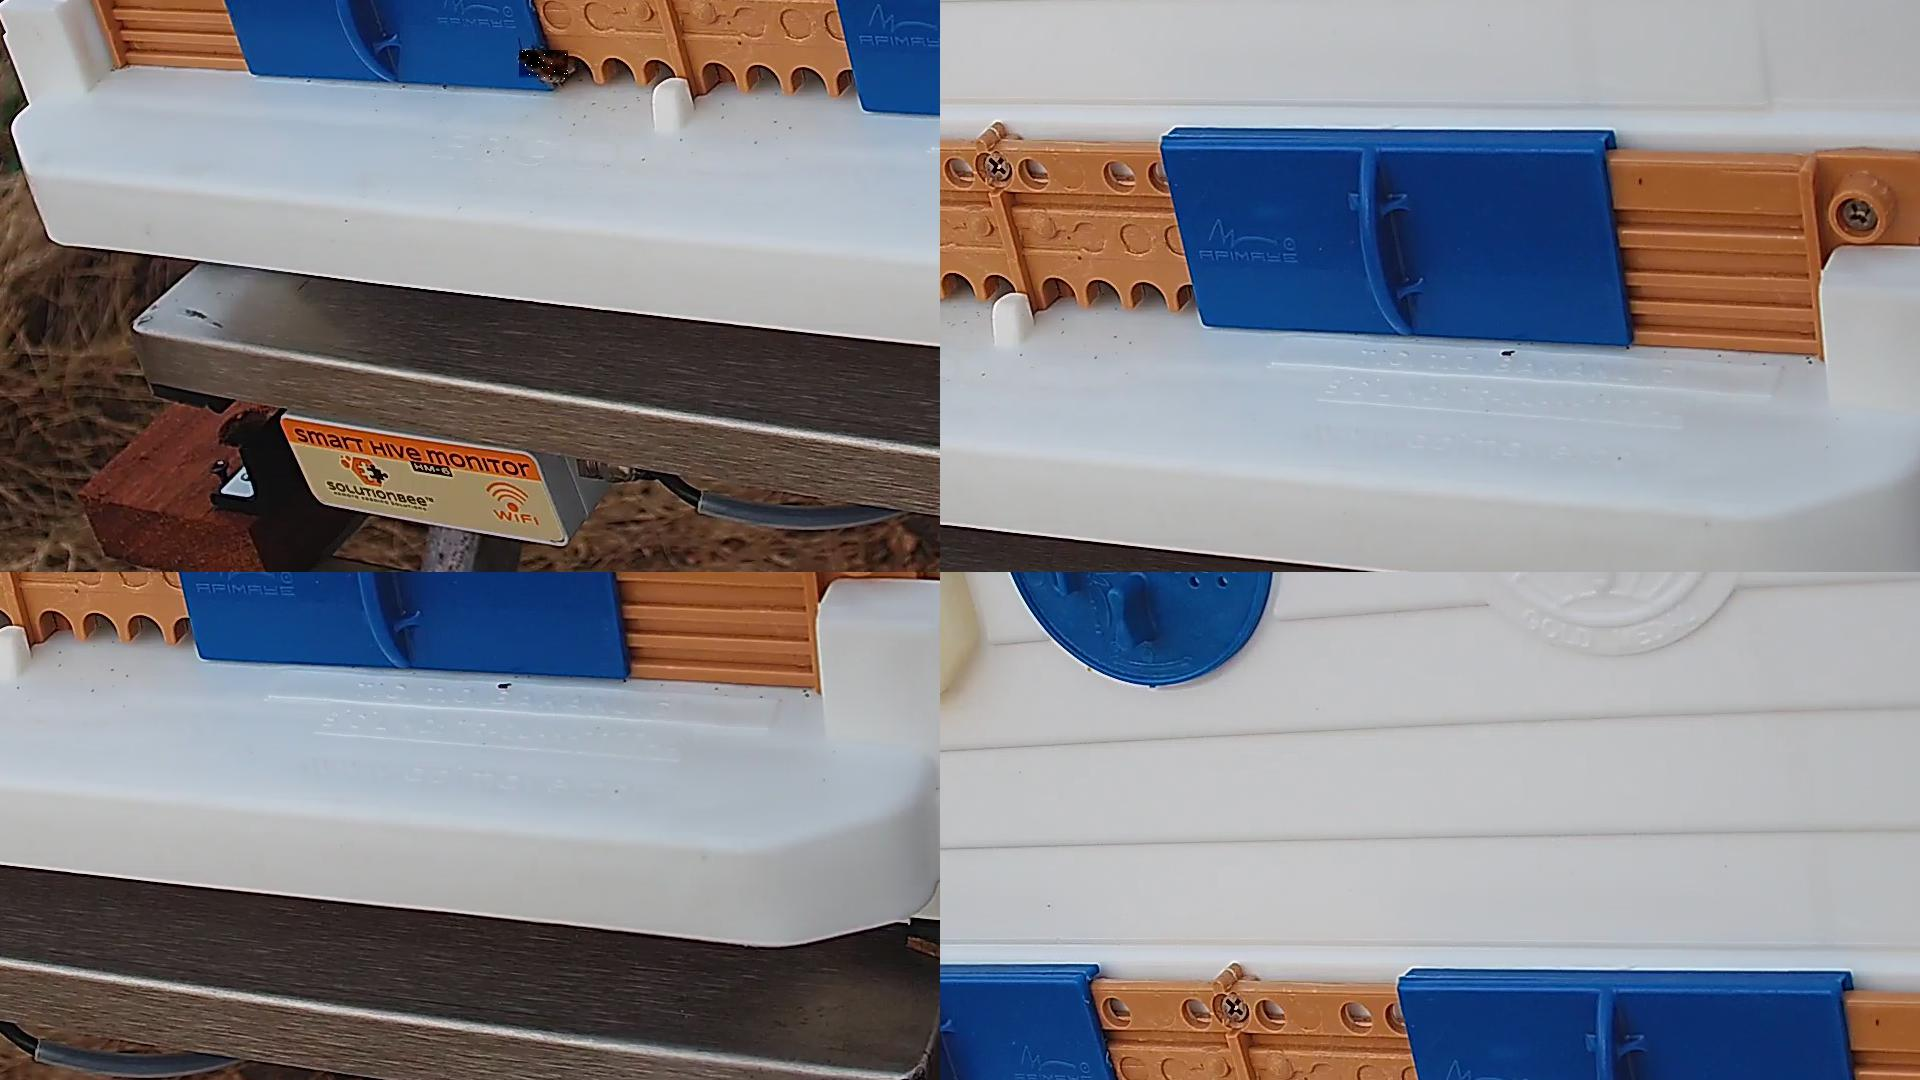bee: (520, 51, 570, 80)
